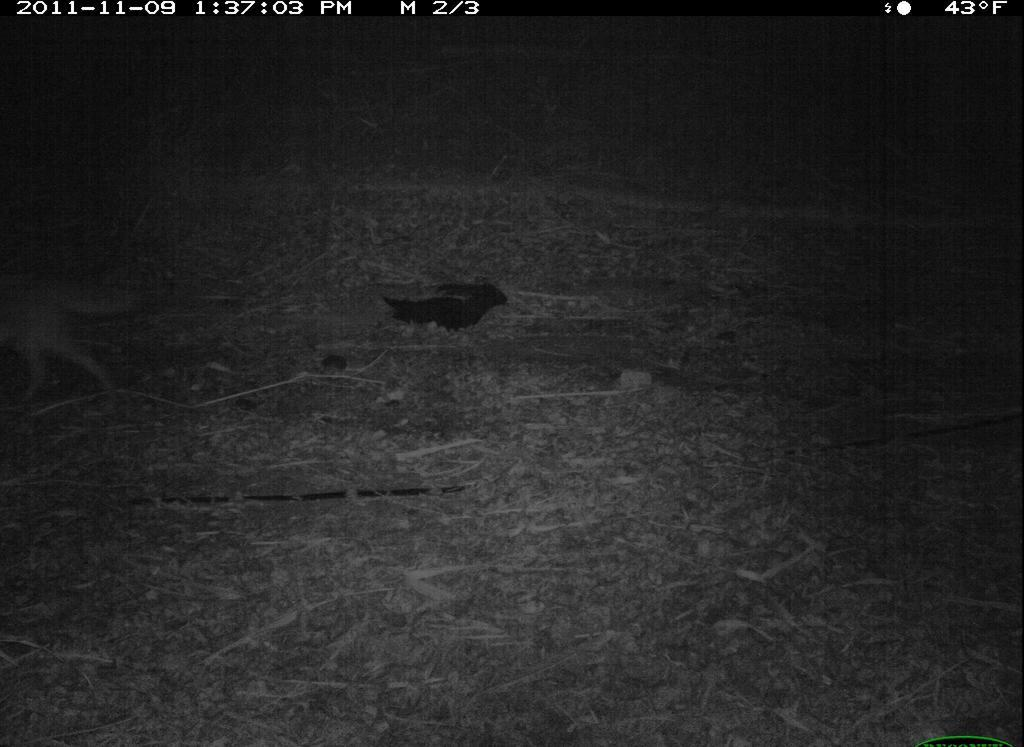coyote: (3, 273, 150, 408)
